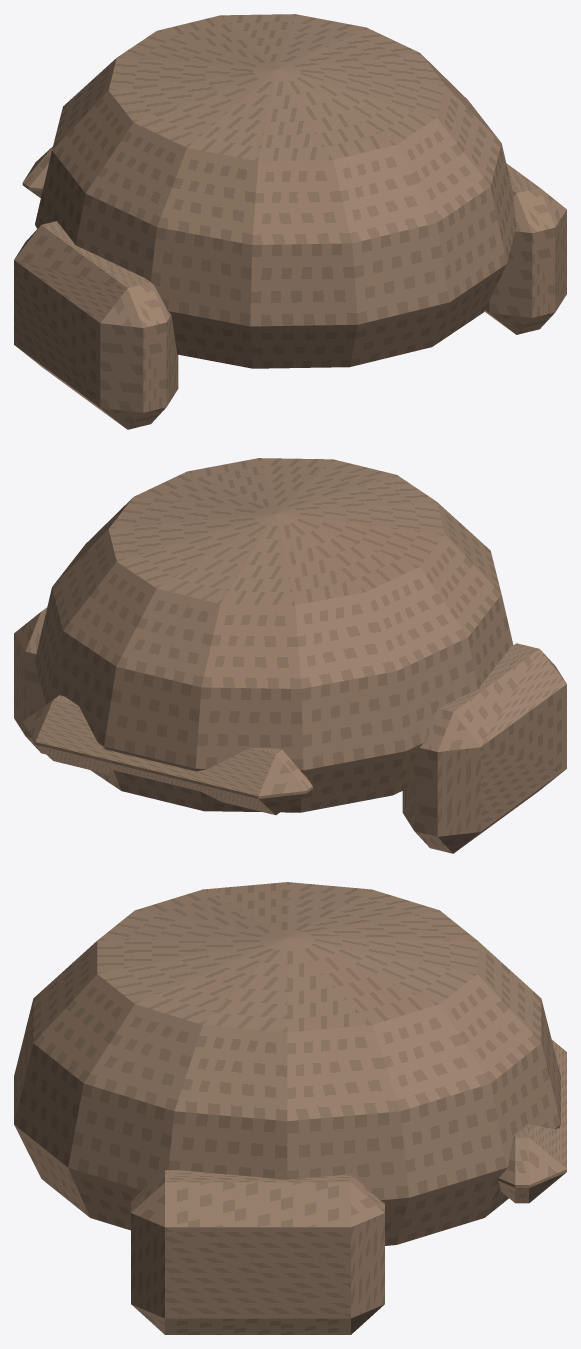
File: hat_fur.glb
3 renders of one model, top to bottom at view 1: azimuth 30°, elevation 25°; view 2: azimuth 150°, elevation 25°; view 3: azimuth 270°, elevation 25°, orthographic. The views are drawn at different scales.
Parts seen in each view (by area): view 1: block_rounded crown, block_ear flap (×2), block_fur forehead trim; view 2: block_rounded crown, block_ear flap (×2), block_fur forehead trim; view 3: block_rounded crown, block_ear flap, block_fur forehead trim.
Boxes of the visible parts, x1,y1,x2,y2 form: block_rounded crown: [35, 14, 516, 368]; block_ear flap (×2): [14, 163, 566, 429]; block_fur forehead trim: [22, 146, 52, 197]; block_rounded crown: [35, 458, 513, 812]; block_ear flap (×2): [14, 607, 566, 853]; block_fur forehead trim: [22, 695, 312, 815]; block_rounded crown: [14, 882, 560, 1245]; block_ear flap: [131, 1170, 384, 1334]; block_fur forehead trim: [498, 1039, 566, 1203].
Size of the model in its own units: 0.229 by 0.1259 by 0.2183.
1 material, 1 textured.
